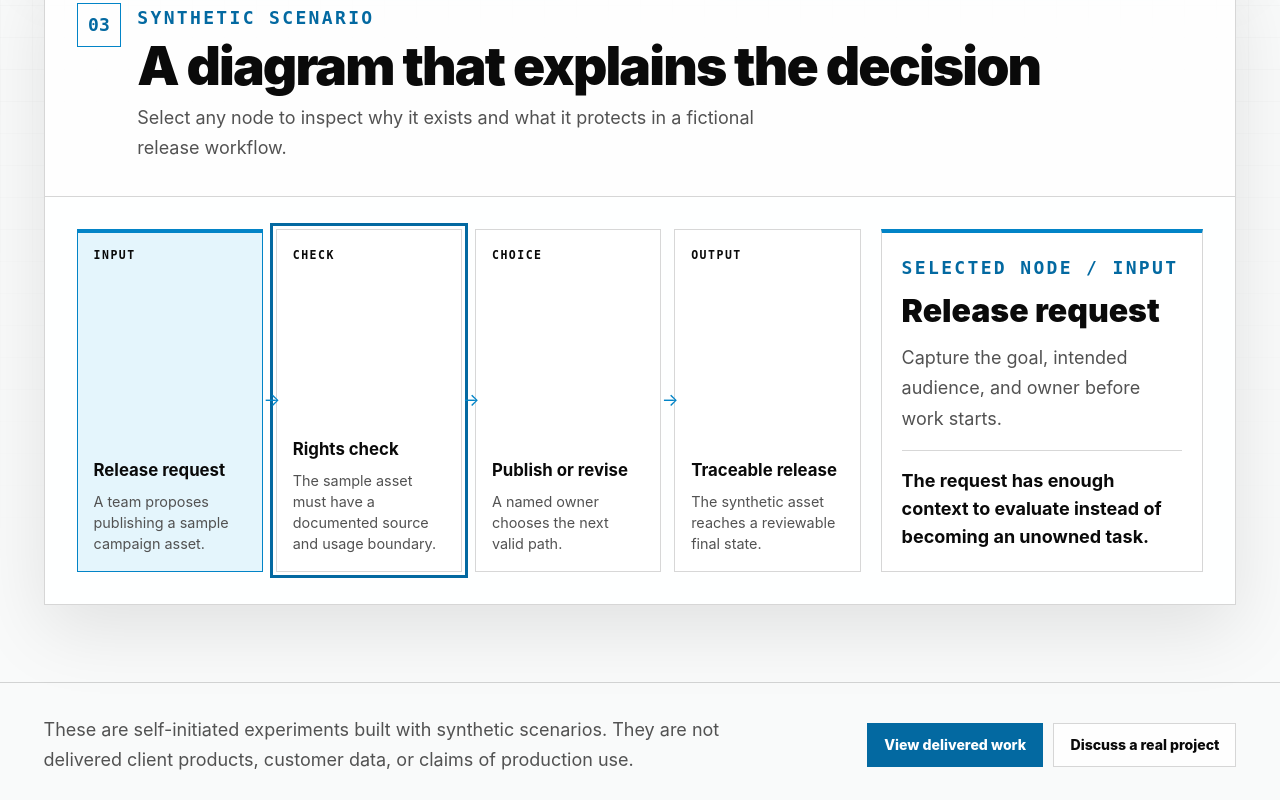
Test: CraftLab › makes every diagram node keyboard-addressable and exposes the selected decision
(page scrolled)
Press Enter in the button "Rights check", box [276,229,462,572]
Click the button "Rights check": (369, 400) [276,229,462,572]
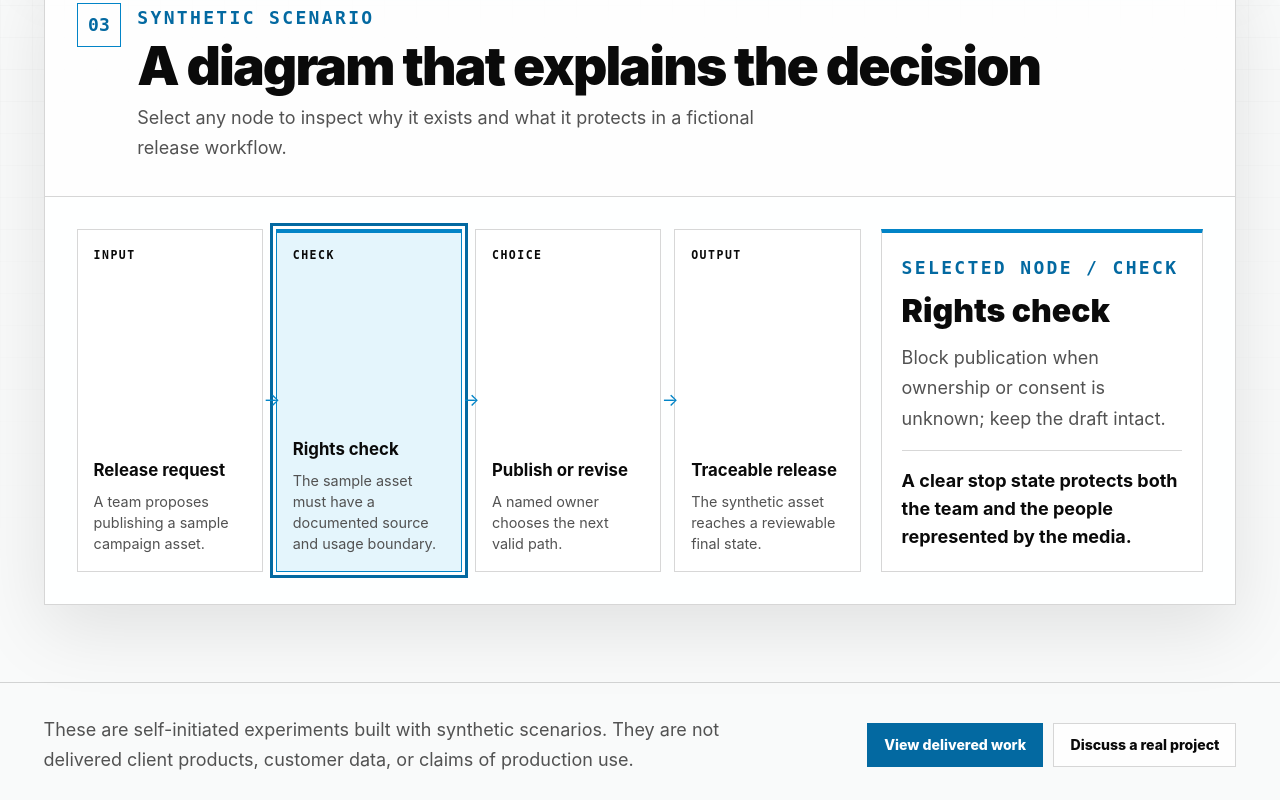
Result: the text "Block publication when ownership or consent is unknown" is shown at [902,346,1166,429]
Result: the text "protects both the team and the people represented by the media" is shown at [902,470,1178,547]
